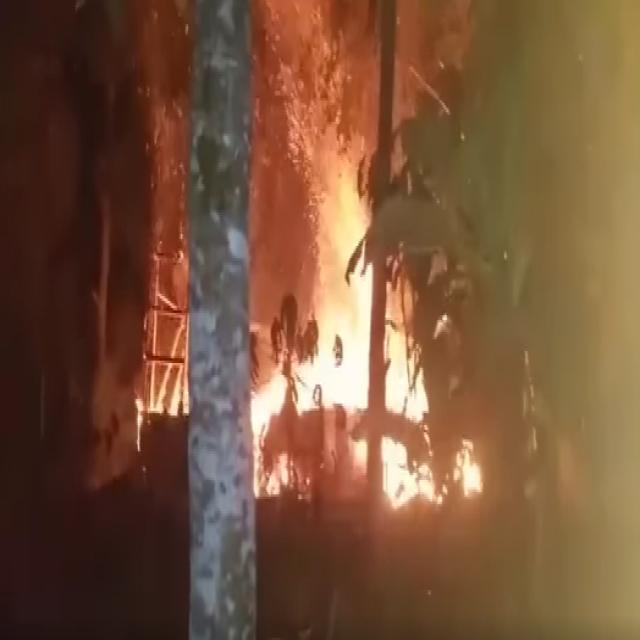Fire: (257, 256, 437, 522)
Smoke: (427, 0, 640, 640)
